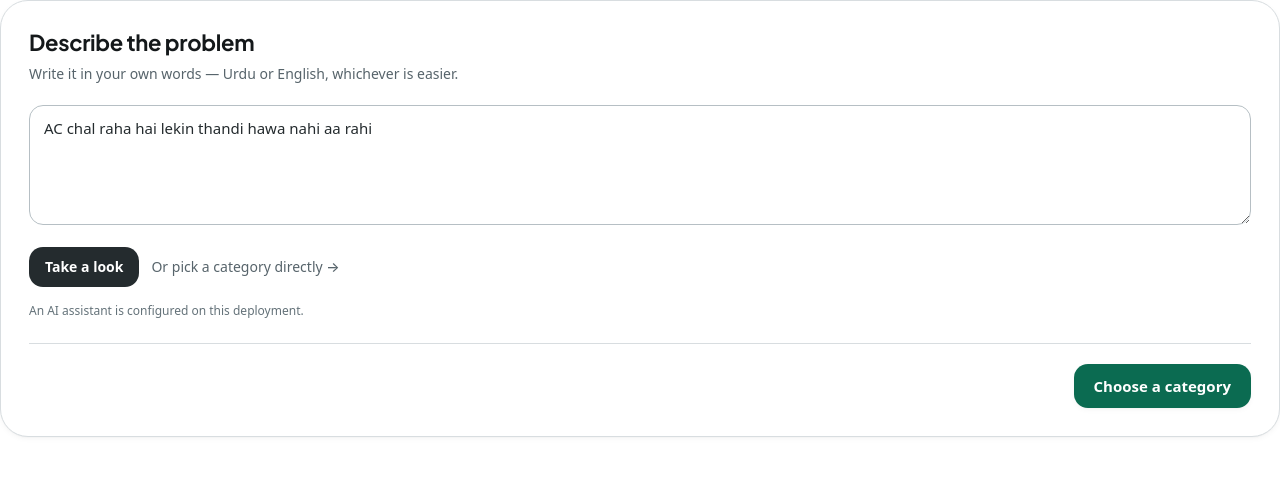
Test: intake step › keeps the customer moving when the assistant fails
Later steps or results of the test are not shown.
Click the button "Take a look".
click(84, 267)  # box [29,247,139,287]
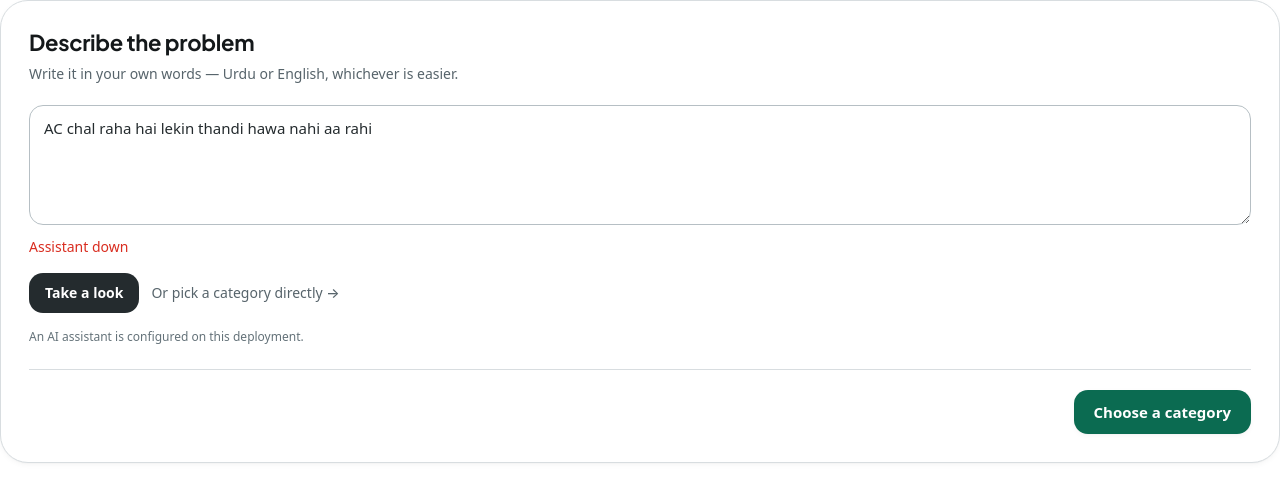
Expected: the message reads "Assistant down", [29,237,128,256]
